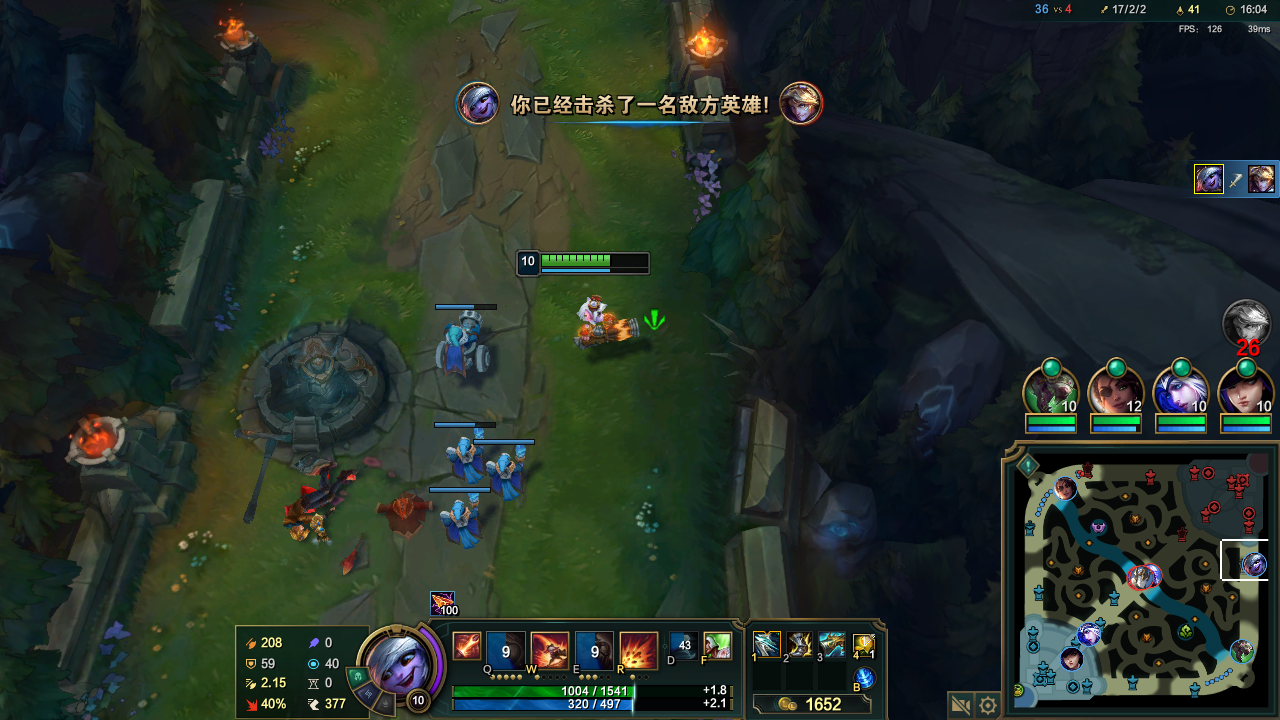WFXB: (429, 312, 503, 383), (478, 446, 532, 508), (434, 492, 484, 550), (439, 427, 490, 477)
